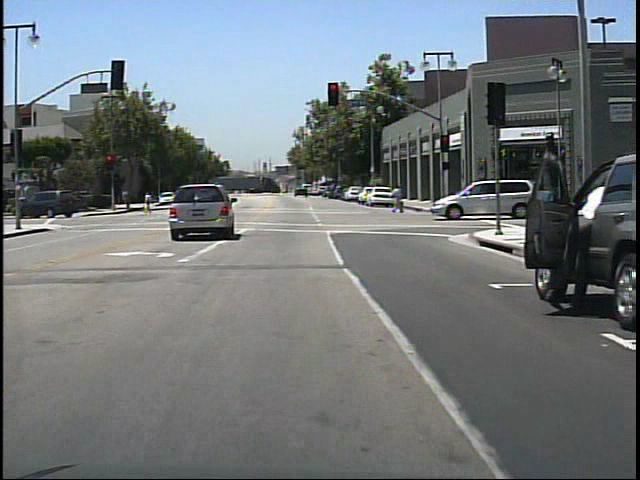person: (538, 157, 604, 314), (390, 182, 409, 217), (143, 189, 159, 217)
